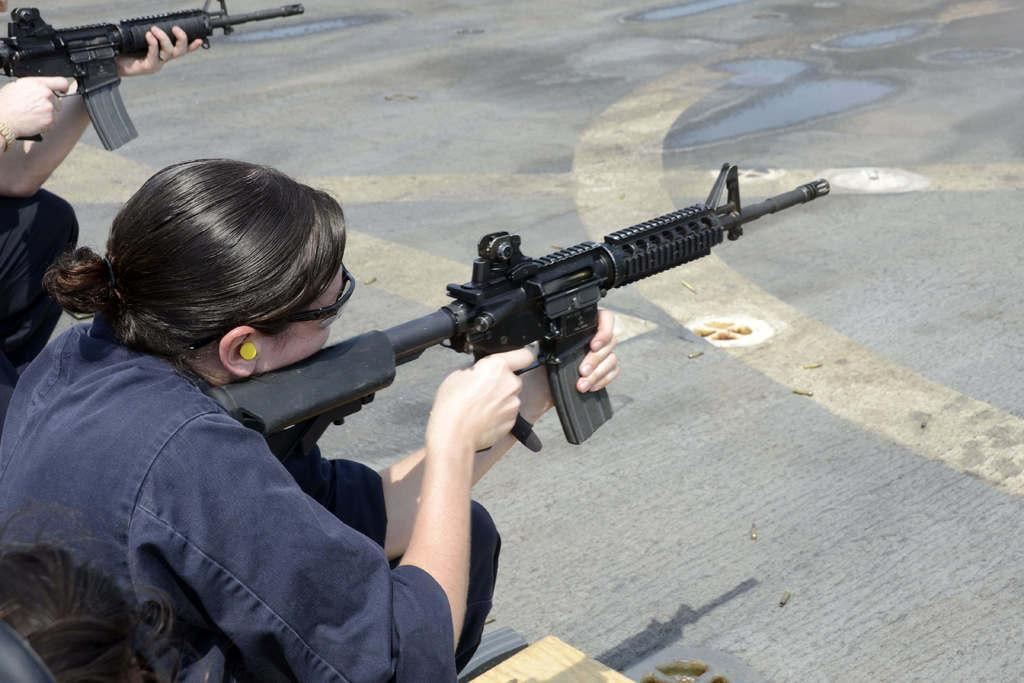Rifle: (204, 165, 828, 444), (0, 5, 309, 158)
